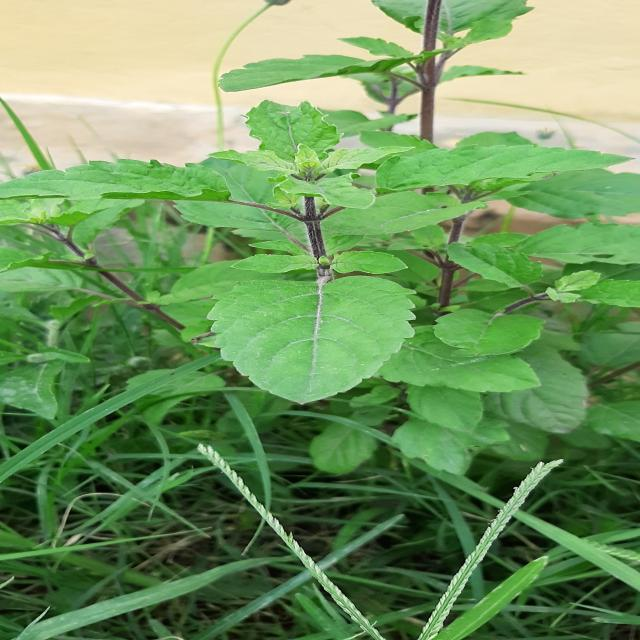tulsi: (206, 276, 415, 402)
